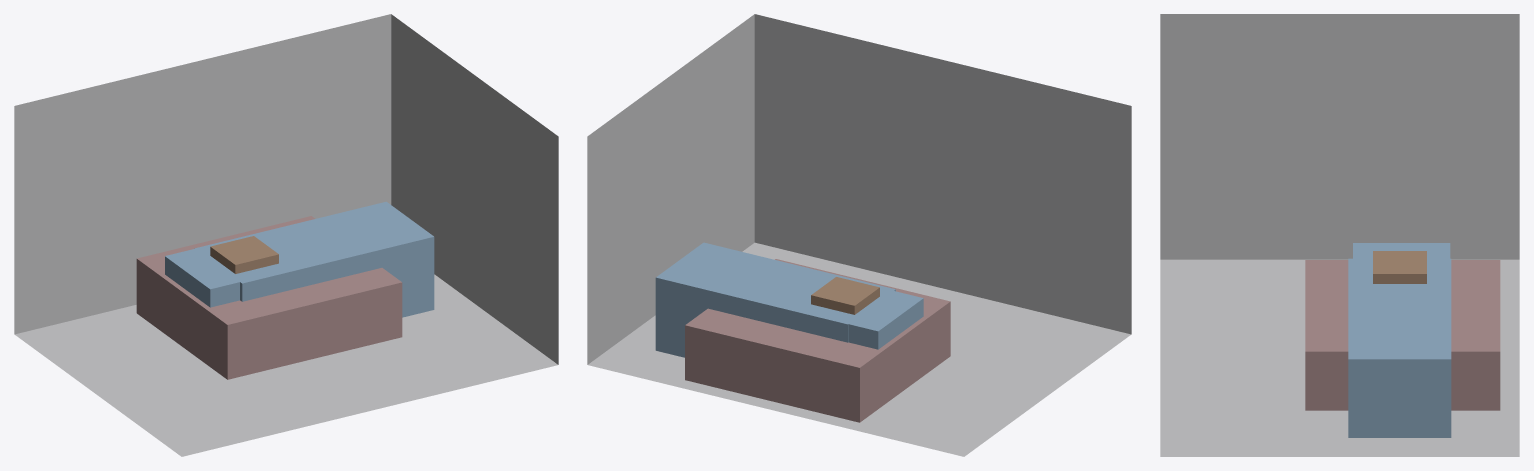
File: optimised_layout.glb
3 renders of one model, left to right at view 1: azimuth 30°, elevation 25°; view 2: azimuth 150°, elevation 25°; view 3: azimuth 270°, elevation 25°, orthographic. The views are drawn at different scales.
Visible parts, largest first — view 1: room, bed, couch, sofa, chair; view 2: room, bed, couch, sofa, chair; view 3: room, couch, bed, sofa, chair.
Part boxes in pixels (x1,y1,x2,y2): room: (14,14,558,456); bed: (136,216,402,379); couch: (194,201,434,317); sofa: (165,213,384,307); chair: (210,236,278,273); room: (587,14,1131,456); bed: (685,259,950,422); couch: (655,242,895,357); sofa: (736,255,923,349); chair: (811,277,879,314); room: (1160,14,1519,456); couch: (1348,258,1451,437); bed: (1305,260,1500,410); sofa: (1353,243,1450,334); chair: (1373,251,1426,283).
Size of the model in its own units: 4.31 by 2.5 by 3.32.
